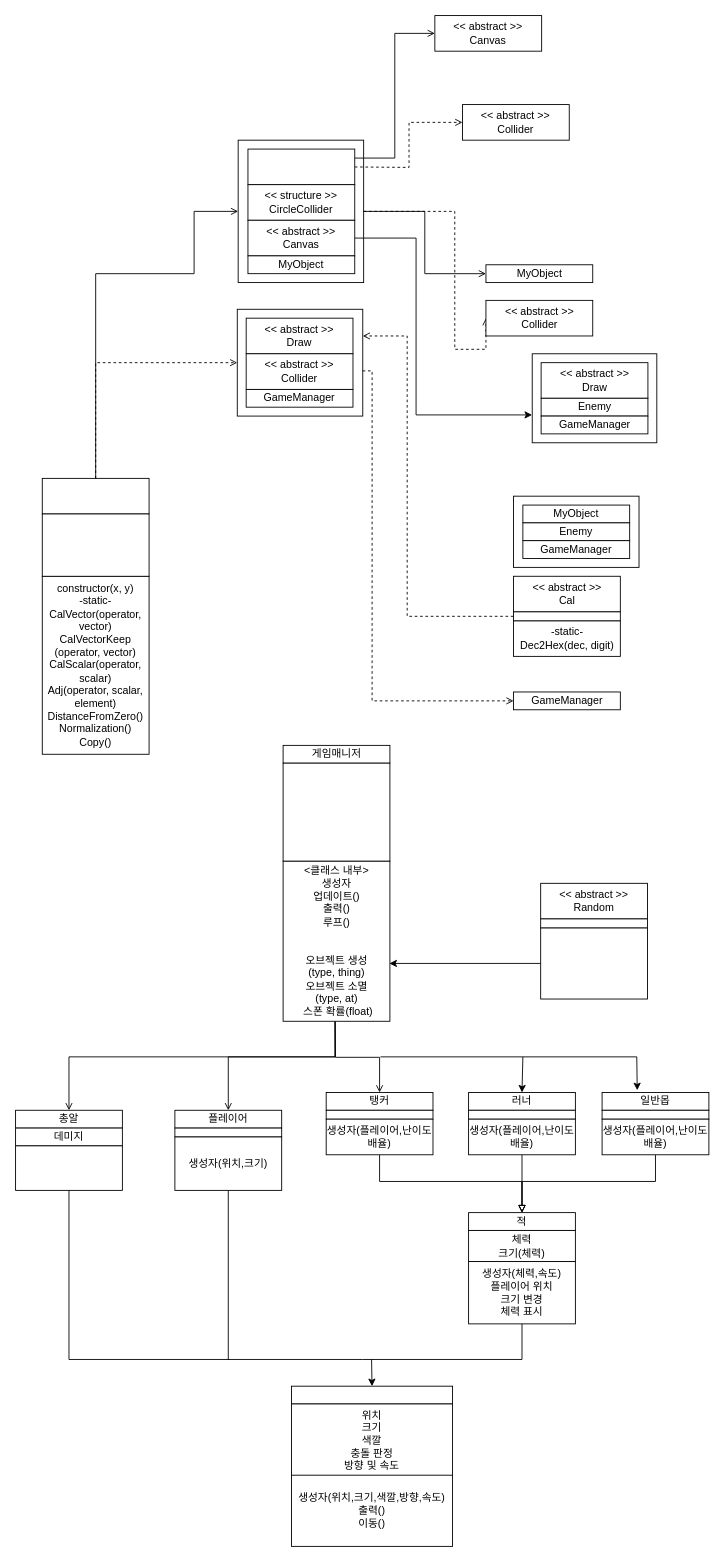
Some shapes in this 724 by 1562 pixel diagram are drawn without their labels. The centre of each missing label's shape, as x and y in pixels:
-static- Int(limit) IntRange(min, max) Float(limit) Bool(): the point at 593,963
<< structure >> BoxCollider: the point at 301,166
<< structure >> Vector: the point at 95,495
float x float y static Vector zero static Vector center: the point at 95,544
생성자 (위치,크기,방향,속도): the point at 68,1167
오브젝트: the point at 372,1394
플레이어 총알 적 점수 게임오버 난이도 난이도 증가: the point at 336,811
